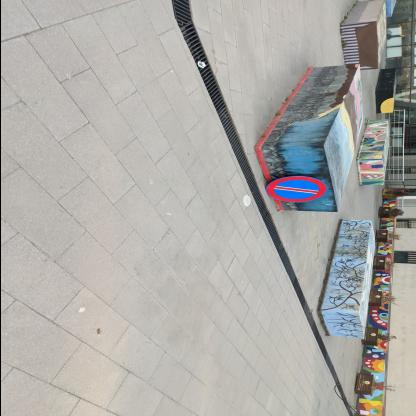No Waiting: (267, 178, 329, 204)
